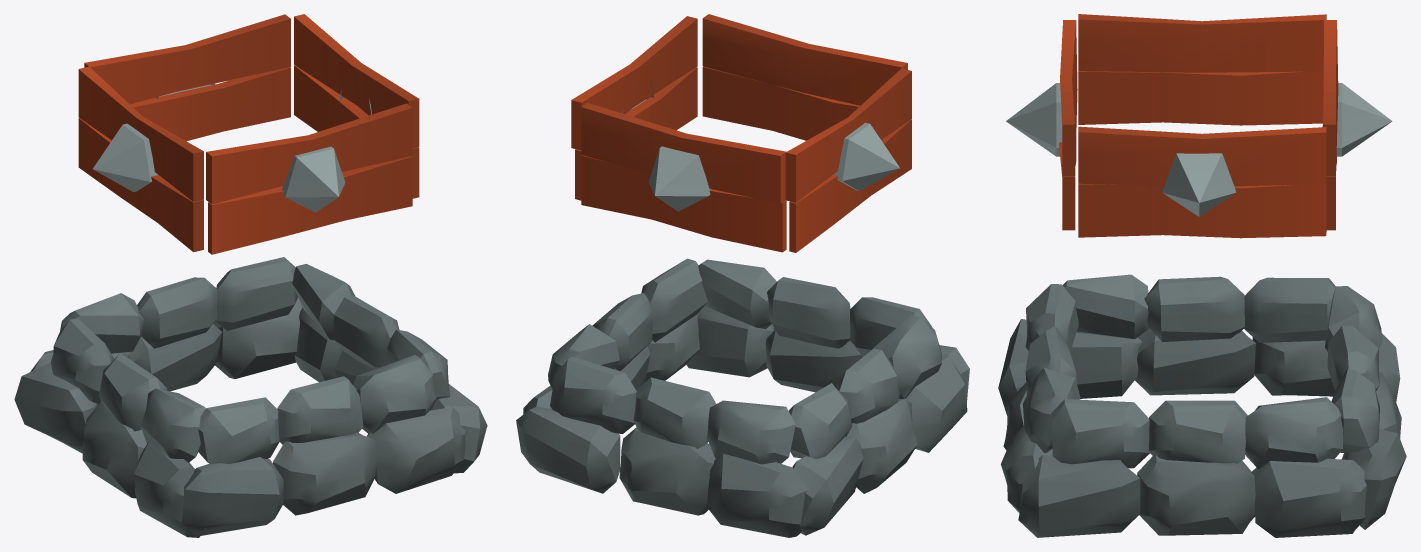
File: m_towerUp_01.fbx
The picture shows the model from 3 angles, left to right: view 1: azimuth 30°, elevation 25°; view 2: azimuth 150°, elevation 25°; view 3: azimuth 270°, elevation 25°; orthographic projection. The views are drawn at different scales.
Visible parts, largest first — view 1: m_towerUp_01; view 2: m_towerUp_01; view 3: m_towerUp_01.
Part boxes in pixels (x1,y1,x2,y2): m_towerUp_01: (14, 14, 487, 537); m_towerUp_01: (516, 14, 969, 537); m_towerUp_01: (998, 14, 1406, 537).
Bounding box in the file's own units: 310 × 334 × 314.
